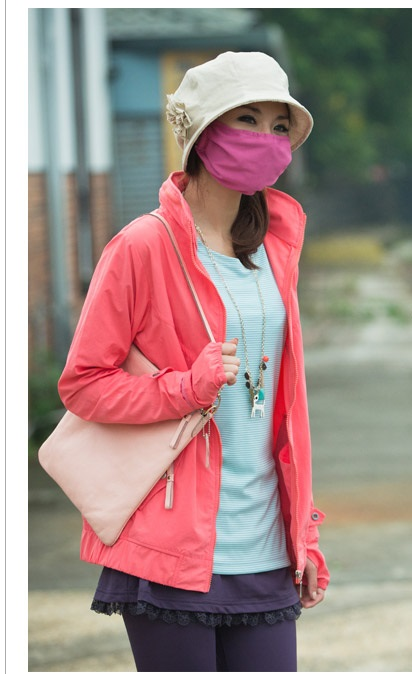face_mask: (218, 90, 293, 192)
